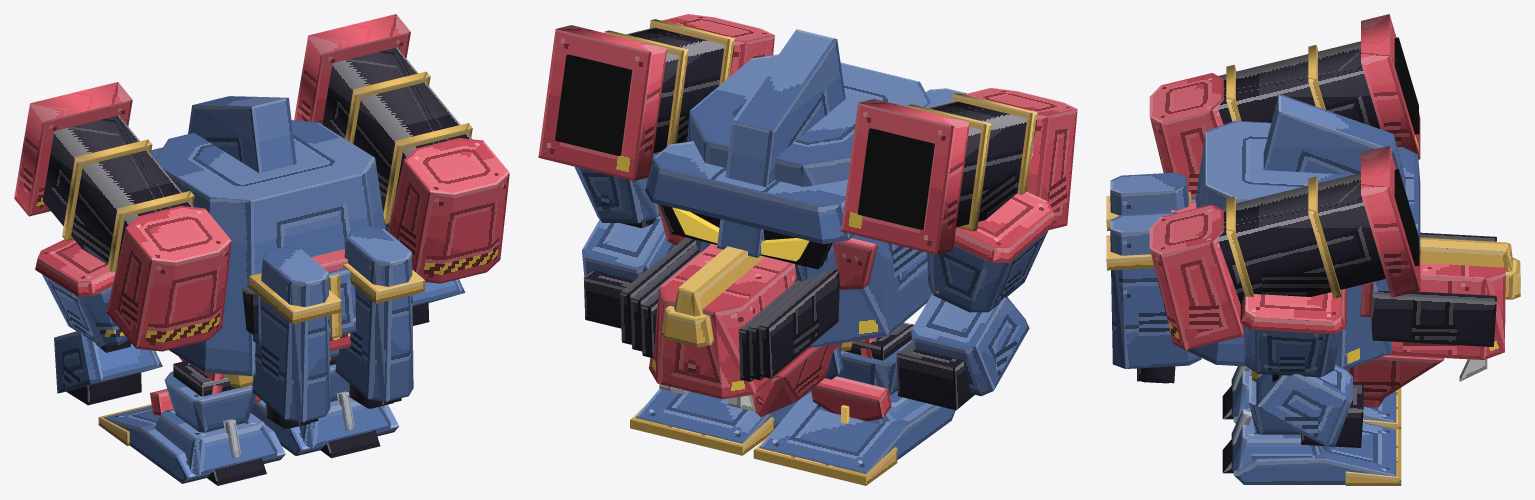
The model's file is bda-monoceros.glb.
3 renders of one model, left to right at view 1: azimuth 30°, elevation 25°; view 2: azimuth 150°, elevation 25°; view 3: azimuth 270°, elevation 25°, orthographic. The views are drawn at different scales.
Visible parts, largest first — view 1: monoceros-22, object 2, object 8, object 3, object 9, object 4, object 10, object 7, object 12, object 6, object 13; view 2: monoceros-22, object 4, object 10, object 5, object 11, object 3, object 2, object 9, object 8, object 6, object 7, object 13 (+1 smaller); view 3: monoceros-22, object 9, object 8, object 3, object 2, object 10, object 4, object 13, object 11, object 5, object 12, object 7 (+1 smaller).
Boxes of the visible parts, <box> form: monoceros-22: <box>35,96,465,485</box>; object 2: <box>106,206,231,351</box>; object 8: <box>387,138,509,283</box>; object 3: <box>42,115,193,264</box>; object 9: <box>322,47,471,209</box>; object 4: <box>14,82,132,216</box>; object 10: <box>294,14,410,124</box>; object 7: <box>62,139,152,241</box>; object 12: <box>383,123,472,224</box>; object 6: <box>107,191,194,272</box>; object 13: <box>345,71,430,143</box>; monoceros-22: <box>574,29,1056,485</box>; object 4: <box>841,99,969,254</box>; object 10: <box>538,25,667,180</box>; object 5: <box>857,128,934,229</box>; object 11: <box>555,54,632,155</box>; object 3: <box>929,101,1037,227</box>; object 2: <box>964,88,1077,229</box>; object 9: <box>626,27,735,153</box>; object 8: <box>662,14,774,76</box>; object 6: <box>952,93,1037,195</box>; object 7: <box>907,104,991,231</box>; object 13: <box>604,30,688,154</box>; monoceros-22: <box>1106,94,1520,485</box>; object 9: <box>1217,173,1385,304</box>; object 8: <box>1149,204,1243,350</box>; object 3: <box>1217,41,1380,129</box>; object 2: <box>1149,73,1223,198</box>; object 10: <box>1361,145,1420,297</box>; object 4: <box>1361,14,1420,159</box>; object 13: <box>1308,176,1341,298</box>; object 11: <box>1394,169,1419,266</box>; object 5: <box>1394,37,1419,134</box>; object 12: <box>1226,196,1253,296</box>; object 7: <box>1308,45,1325,109</box>.
Size of the model in its own units: 2.18 by 1.74 by 1.96.
Materials: 103 (99 with a texture image).
